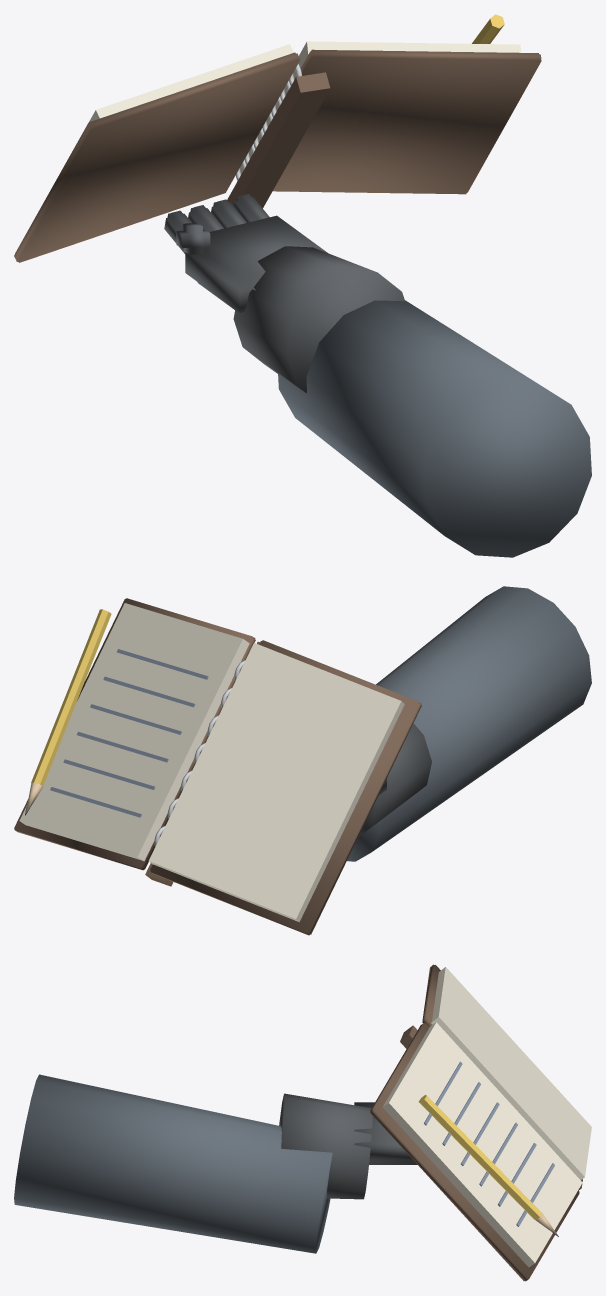
Rendered from vm_notebook.glb.
The picture shows the model from 3 angles, top to bottom: view 1: azimuth 30°, elevation 25°; view 2: azimuth 150°, elevation 25°; view 3: azimuth 270°, elevation 25°; orthographic projection. The views are drawn at different scales.
Parts seen in each view (by area): view 1: CoatSleeve, CoverR, CoverL, GloveWrist, Palm, Spine, PagesR, PagesL, Thumb; view 2: PagesL, PagesR, CoatSleeve, CoverL, CoverR, GloveWrist, PencilShaft; view 3: CoatSleeve, PagesR, PagesL, GloveWrist, CoverR, PencilShaft, Palm, CoverL.
Part boxes in pixels (x1,y1,x2,y2): CoatSleeve: [278, 300, 591, 557]; CoverR: [241, 49, 541, 194]; CoverL: [14, 52, 300, 262]; GloveWrist: [233, 246, 404, 393]; Palm: [185, 215, 327, 312]; Spine: [227, 72, 330, 208]; PagesR: [240, 41, 521, 174]; PagesL: [89, 44, 293, 121]; Thumb: [176, 223, 210, 254]; PagesL: [149, 643, 404, 922]; PagesR: [19, 603, 249, 861]; CoatSleeve: [347, 586, 591, 861]; CoverL: [150, 640, 421, 935]; CoverR: [14, 598, 255, 870]; GloveWrist: [358, 723, 431, 836]; PencilShaft: [31, 609, 111, 786]; CoatSleeve: [14, 1074, 332, 1253]; PagesR: [382, 1022, 582, 1267]; PagesL: [431, 967, 591, 1180]; GloveWrist: [279, 1093, 372, 1199]; CoverR: [370, 1023, 579, 1281]; PencilShaft: [418, 1095, 542, 1220]; Palm: [354, 1102, 417, 1164]; CoverL: [422, 964, 582, 1190].
Bounding box in the file's own units: 0.2907 × 0.2055 × 0.4531.
